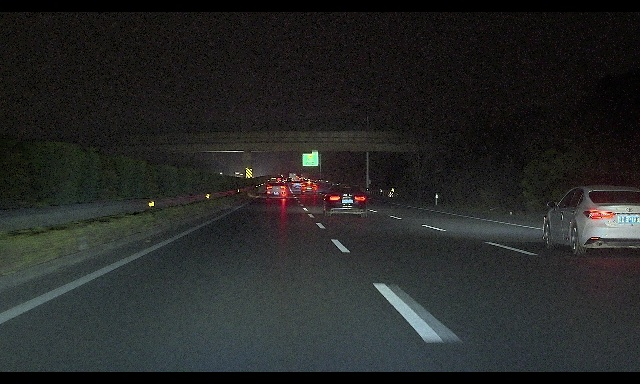car: (543, 185, 640, 256), (323, 184, 368, 217), (266, 182, 288, 197), (301, 182, 317, 194), (291, 180, 303, 188)
